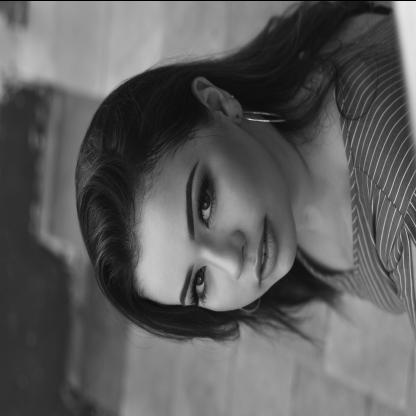Eye: (181, 258, 213, 310), (193, 166, 219, 228)
Mouth: (248, 207, 282, 293)
Nose: (208, 228, 250, 277)
